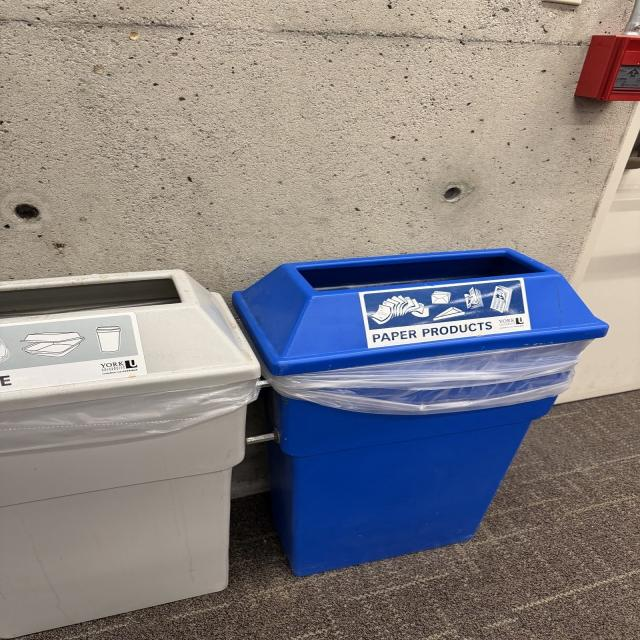Dustbin: (0, 246, 611, 639)
